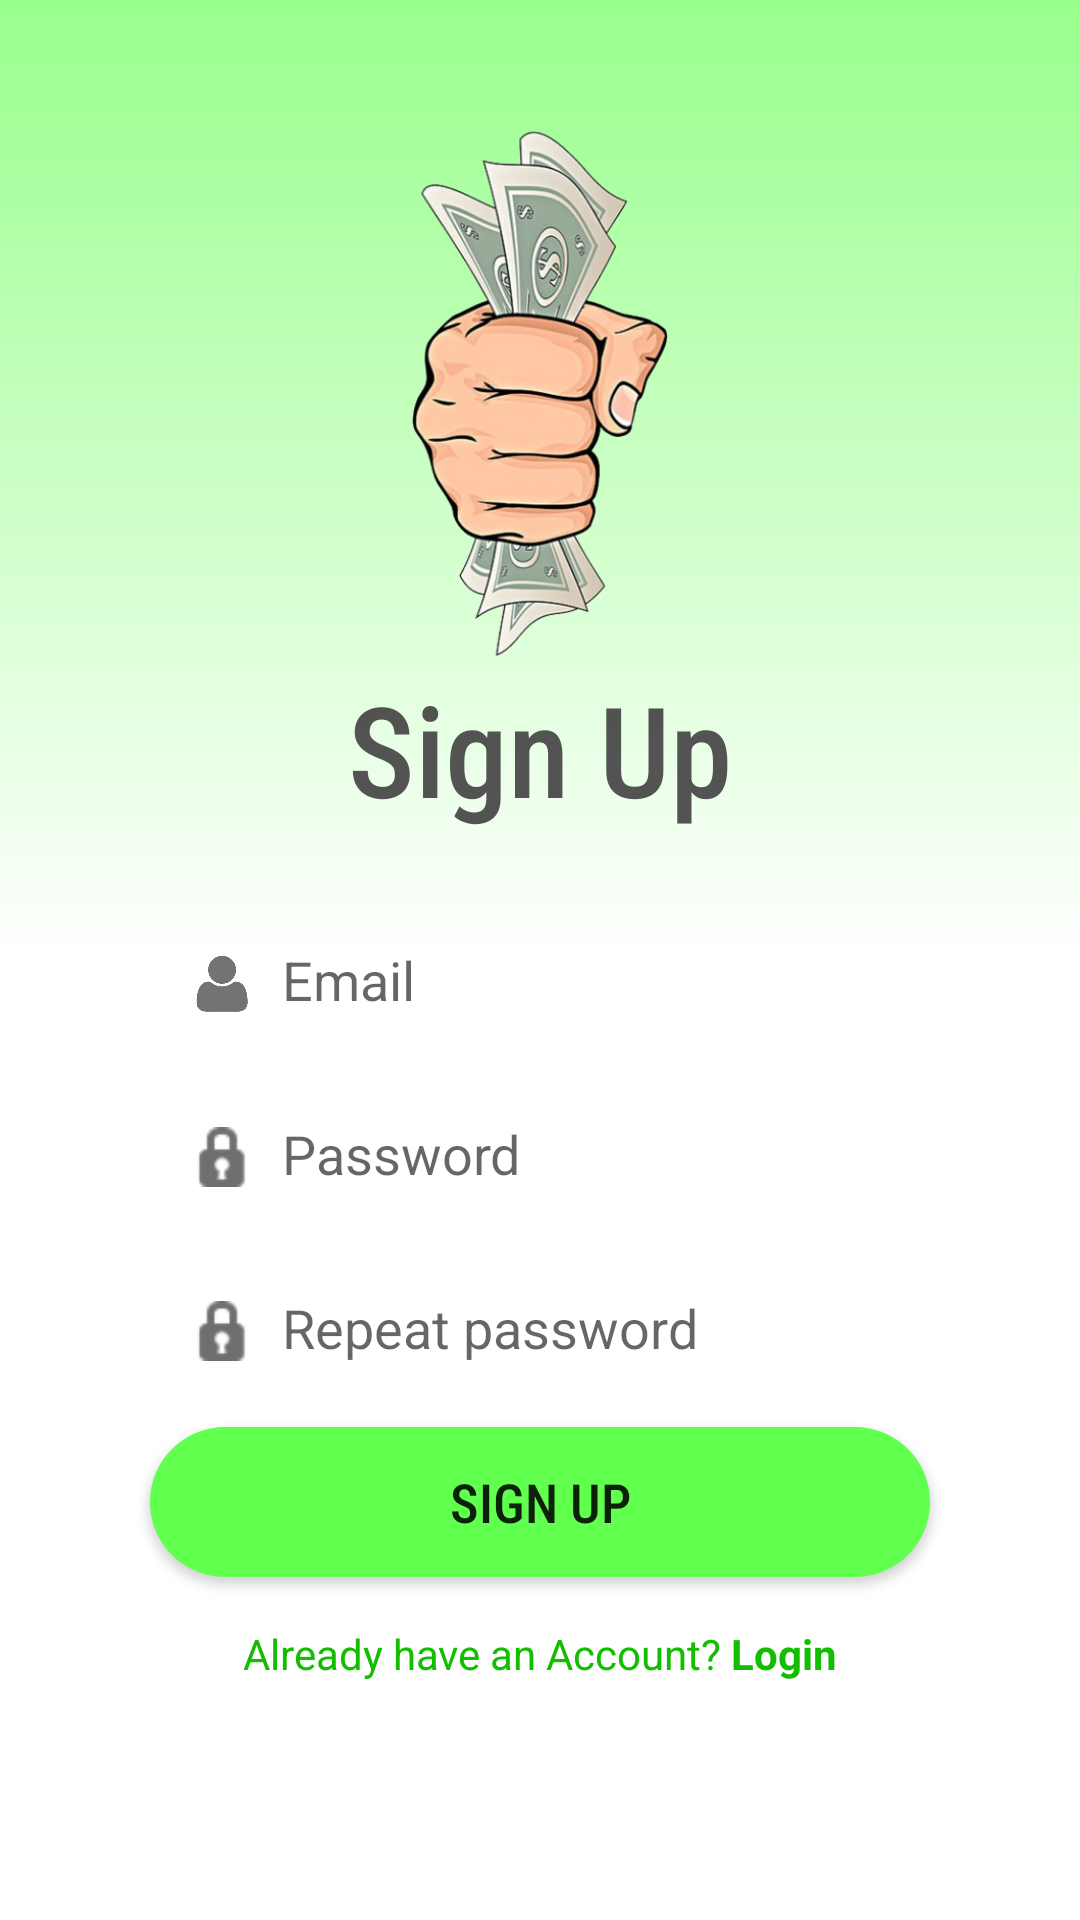

Where to tap for icons on this 1080w x 1920h app screen, as [x,y]:
secure: [222,1157], [222,1331]
user: [222,984]
